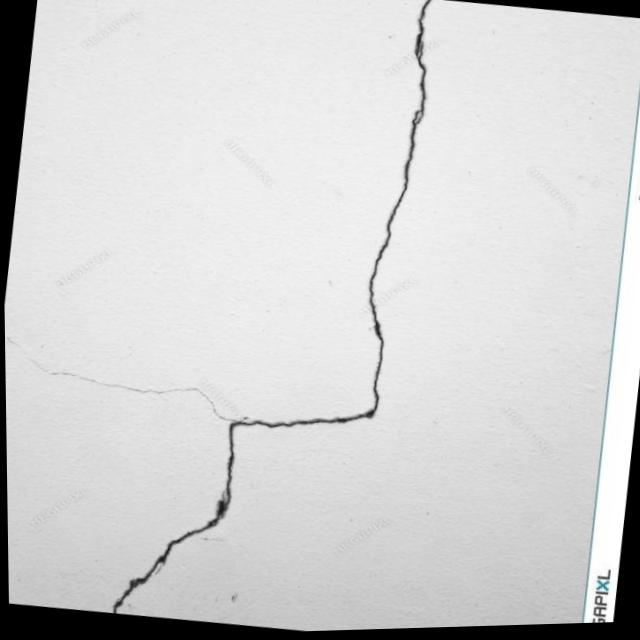Crack: (85, 0, 464, 638), (4, 326, 122, 416)
